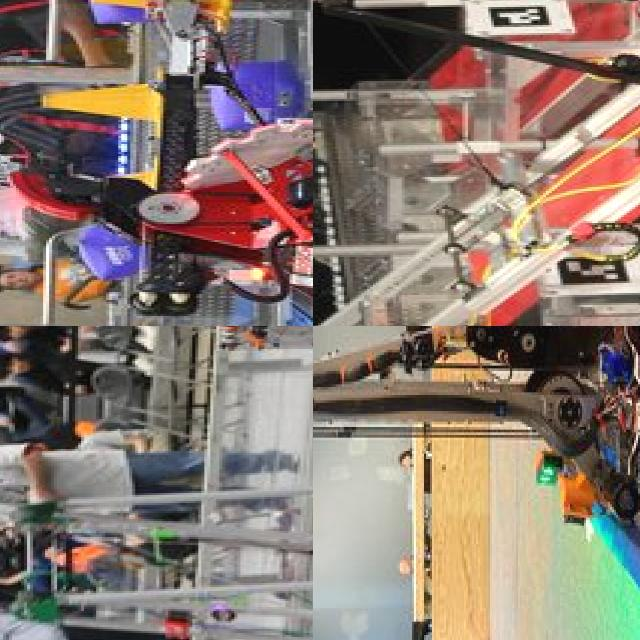FRC-Robots: (313, 0, 640, 326), (313, 326, 640, 640), (20, 26, 313, 326), (0, 398, 313, 640)
